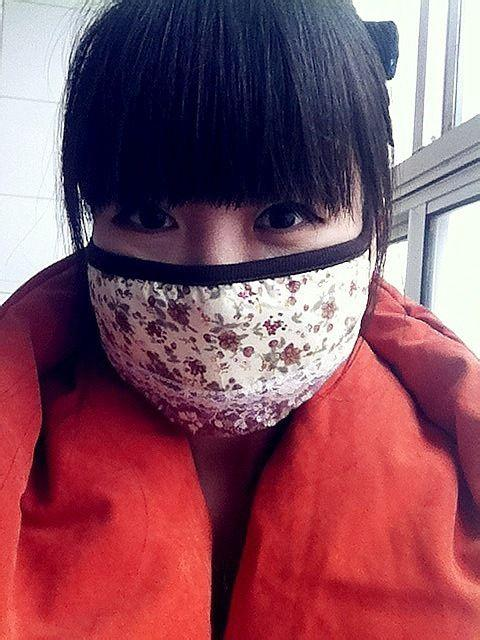OK: (95, 154, 361, 431)
